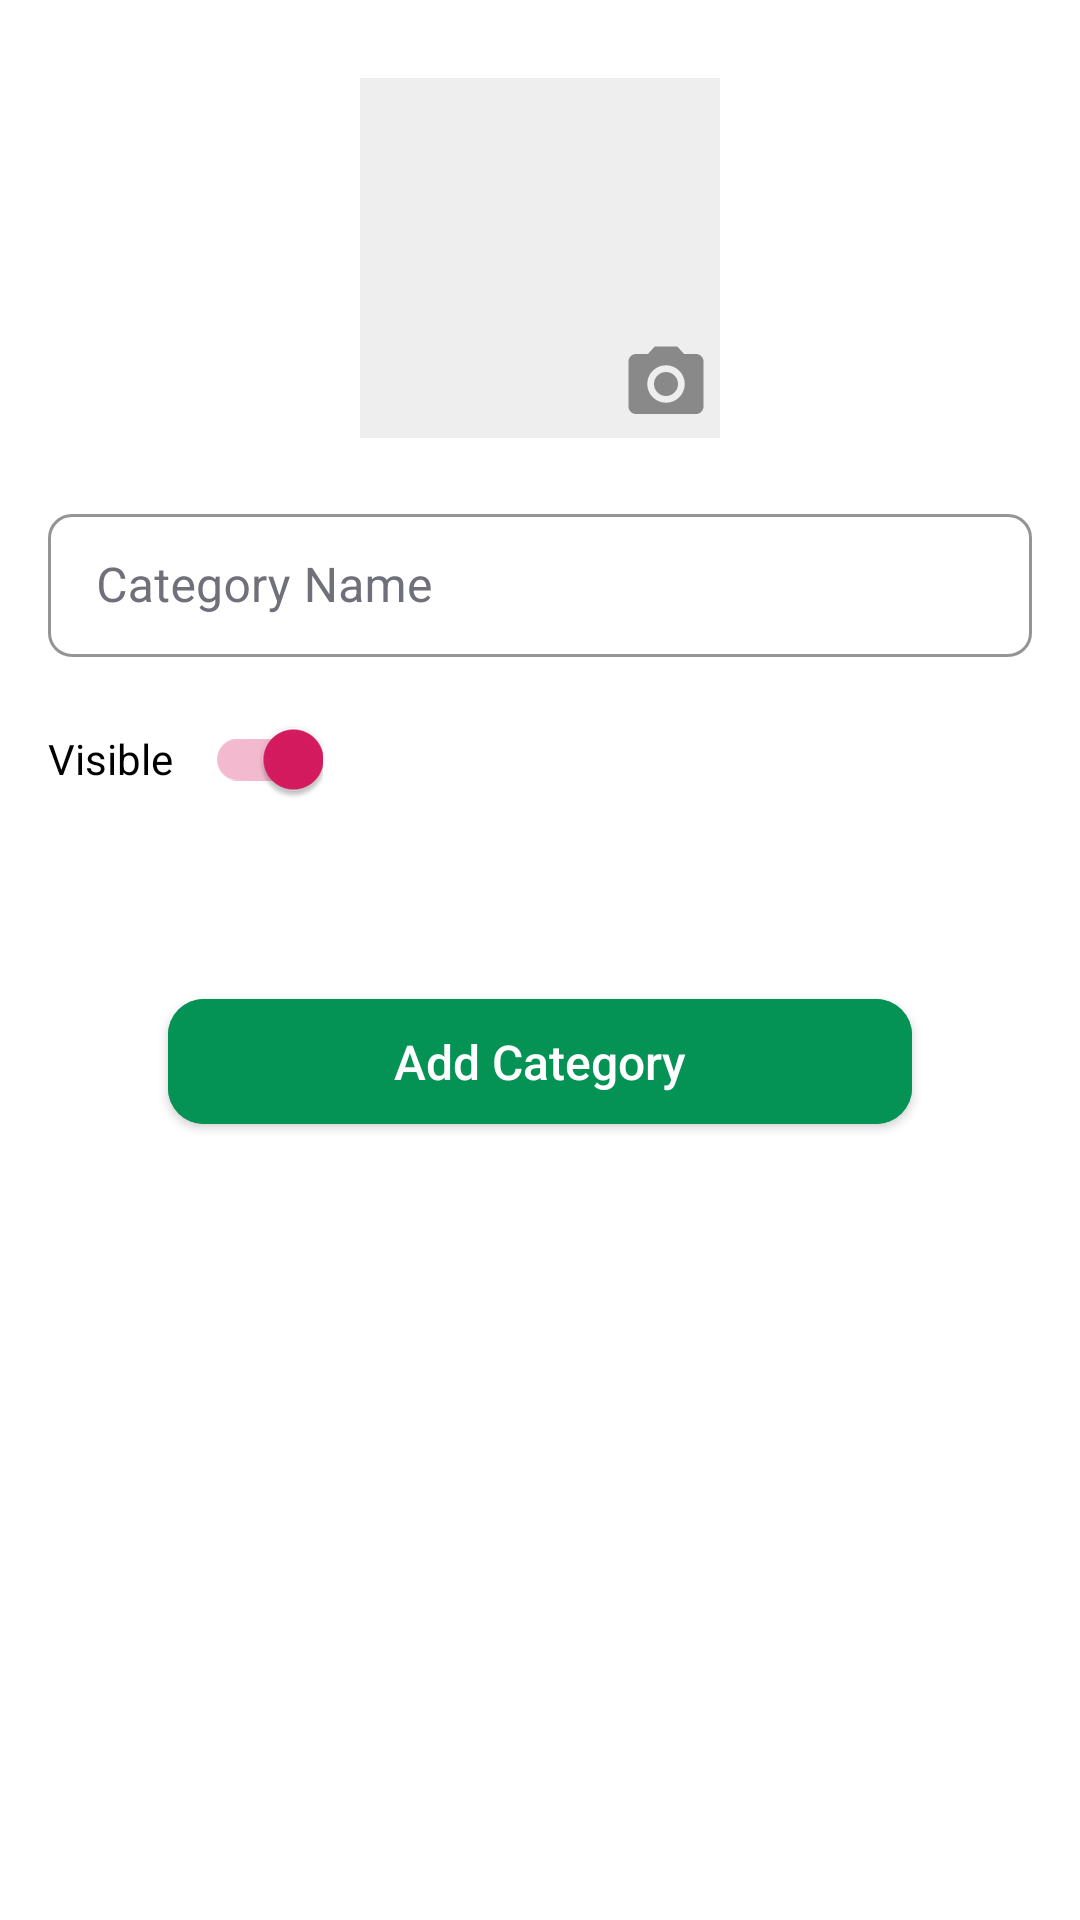

Where icons sit on this 1080 x 1920 app screen, as detection(x1, y1, x2, y2):
camera: detection(628, 346, 704, 414)
